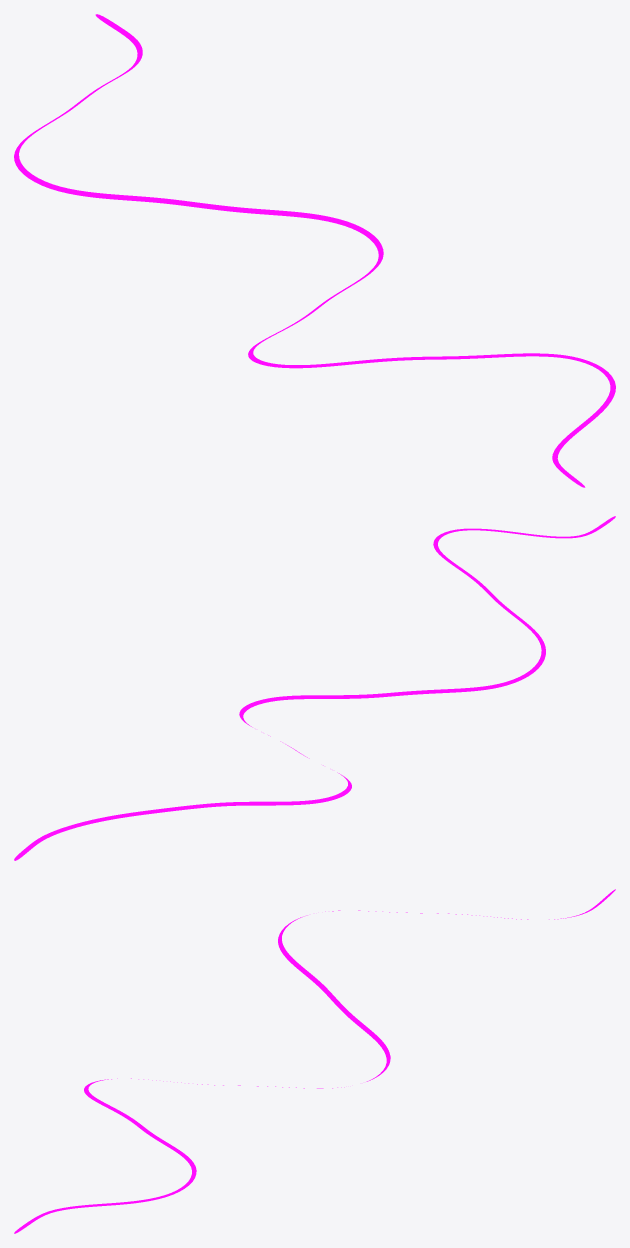
Rendered from ribbon_journey.glb.
3 views of the same model, one above another, from view 1: azimuth 30°, elevation 25°; view 2: azimuth 150°, elevation 25°; view 3: azimuth 330°, elevation 25° (orthographic). The views are drawn at different scales.
Parts seen in each view (by area): view 1: GlowRibbon; view 2: GlowRibbon; view 3: GlowRibbon.
Part boxes in pixels (left/top/right/bottom): GlowRibbon: left=14, top=14, right=615, bottom=487; GlowRibbon: left=14, top=516, right=615, bottom=860; GlowRibbon: left=14, top=889, right=615, bottom=1233.
Bounding box in the file's own units: 7.14 × 1.29 × 31.15.
